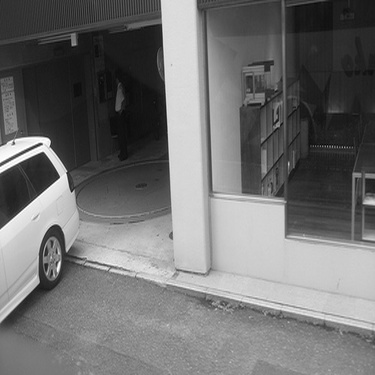car: (1, 128, 85, 337)
